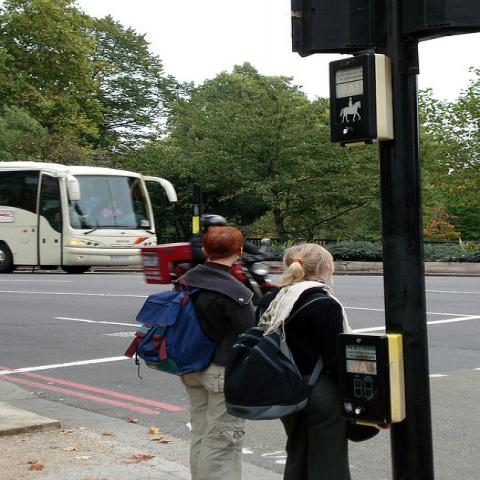bus: (0, 158, 183, 266)
motorcycle: (229, 256, 278, 296)
